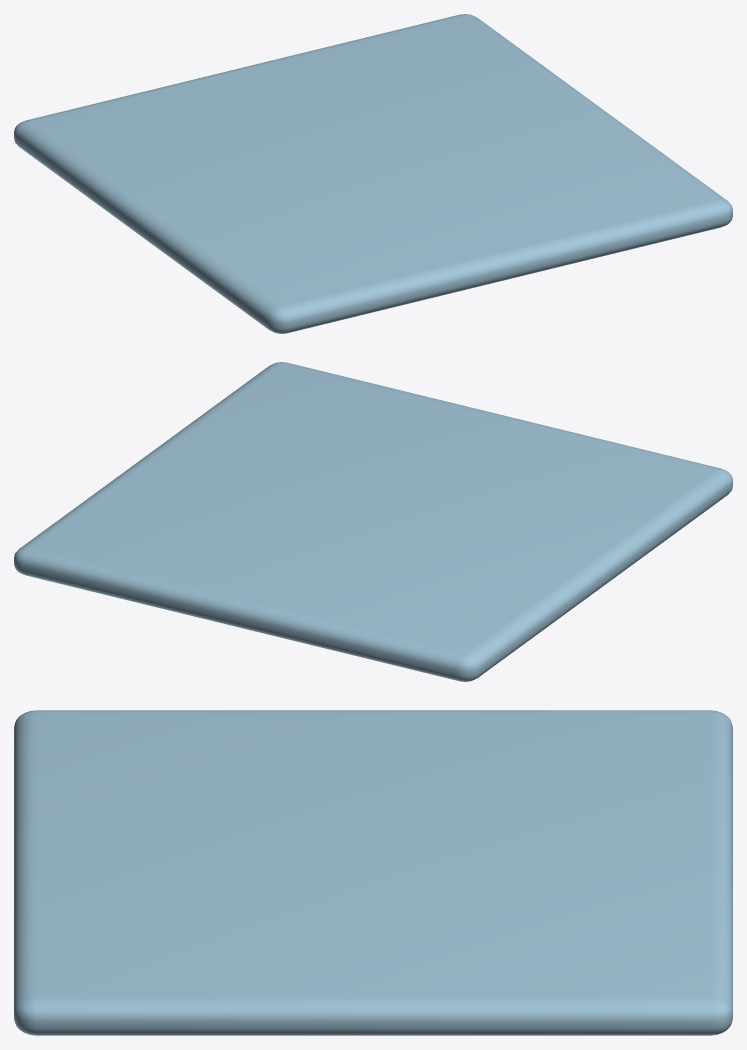
The model's file is HyperTowerDefence_Platform.fbx.
The picture shows the model from 3 angles, top to bottom: view 1: azimuth 30°, elevation 25°; view 2: azimuth 150°, elevation 25°; view 3: azimuth 270°, elevation 25°; orthographic projection. The views are drawn at different scales.
Visible parts, largest first — view 1: Platform; view 2: Platform; view 3: Platform.
Boxes of the visible parts, x1,y1,x2,y2 form: Platform: [14, 14, 732, 333]; Platform: [14, 362, 732, 681]; Platform: [14, 710, 732, 1035].
Size of the model in its own units: 2484 by 133 by 2484.
